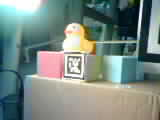duck: (54, 16, 95, 56)
